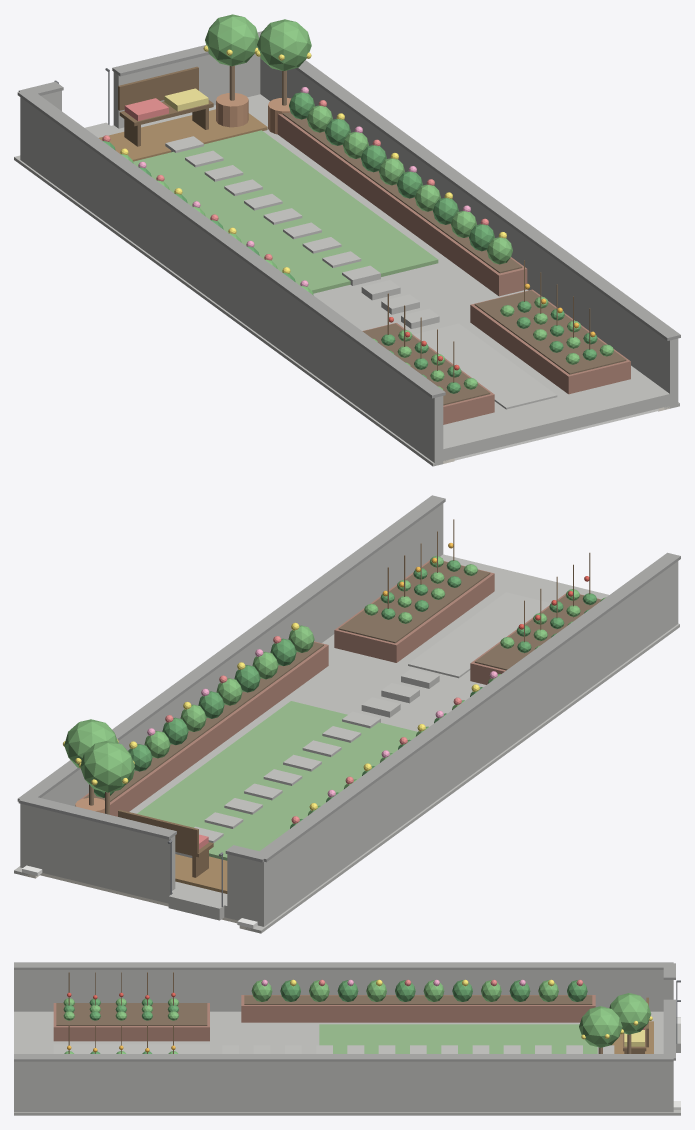
File: tube_roof_garden.glb
The picture shows the model from 3 angles, top to bottom: view 1: azimuth 30°, elevation 25°; view 2: azimuth 150°, elevation 25°; view 3: azimuth 270°, elevation 25°; orthographic projection. The views are drawn at different scales.
Parts seen in each view (by area): view 1: concrete, grass, concrete_dark, brick, stone, green, soil, leaf_dark, wood_dark, wood, pot, cloth1 (+1 smaller); view 2: concrete, grass, concrete_dark, stone, brick, soil, green, leaf_dark, wood_dark, wood; view 3: concrete, concrete_dark, brick, grass, green, soil, stone, leaf_dark, wood_dark, wood, cloth3, flower_yellow.
Boxes of the visible parts, <box> form: concrete: <box>14,47,679,466</box>; grass: <box>133,130,438,293</box>; concrete_dark: <box>17,31,680,398</box>; brick: <box>277,113,630,424</box>; stone: <box>165,136,557,409</box>; green: <box>120,14,613,389</box>; soil: <box>282,112,626,405</box>; leaf_dark: <box>103,92,597,393</box>; wood_dark: <box>118,66,590,382</box>; wood: <box>99,109,267,161</box>; pot: <box>216,93,291,134</box>; cloth1: <box>102,98,488,260</box>; concrete: <box>14,503,679,933</box>; grass: <box>137,701,417,860</box>; concrete_dark: <box>17,495,680,862</box>; stone: <box>175,592,550,857</box>; brick: <box>79,560,601,816</box>; soil: <box>83,561,600,801</box>; green: <box>64,555,605,815</box>; leaf_dark: <box>94,560,596,828</box>; wood_dark: <box>118,519,590,877</box>; wood: <box>175,854,227,893</box>; concrete: <box>14,970,680,1115</box>; concrete_dark: <box>14,962,675,1061</box>; brick: <box>53,995,595,1041</box>; grass: <box>319,1024,597,1053</box>; green: <box>63,980,651,1053</box>; soil: <box>56,995,592,1025</box>; stone: <box>53,1044,614,1053</box>; leaf_dark: <box>63,980,587,1053</box>; wood_dark: <box>68,972,648,1053</box>; wood: <box>612,1021,653,1053</box>; cloth3: <box>624,1030,644,1046</box>; flower_yellow: <box>290,979,652,1039</box>.
Size of the model in its own units: 4.39 by 2.05 by 12.8.
